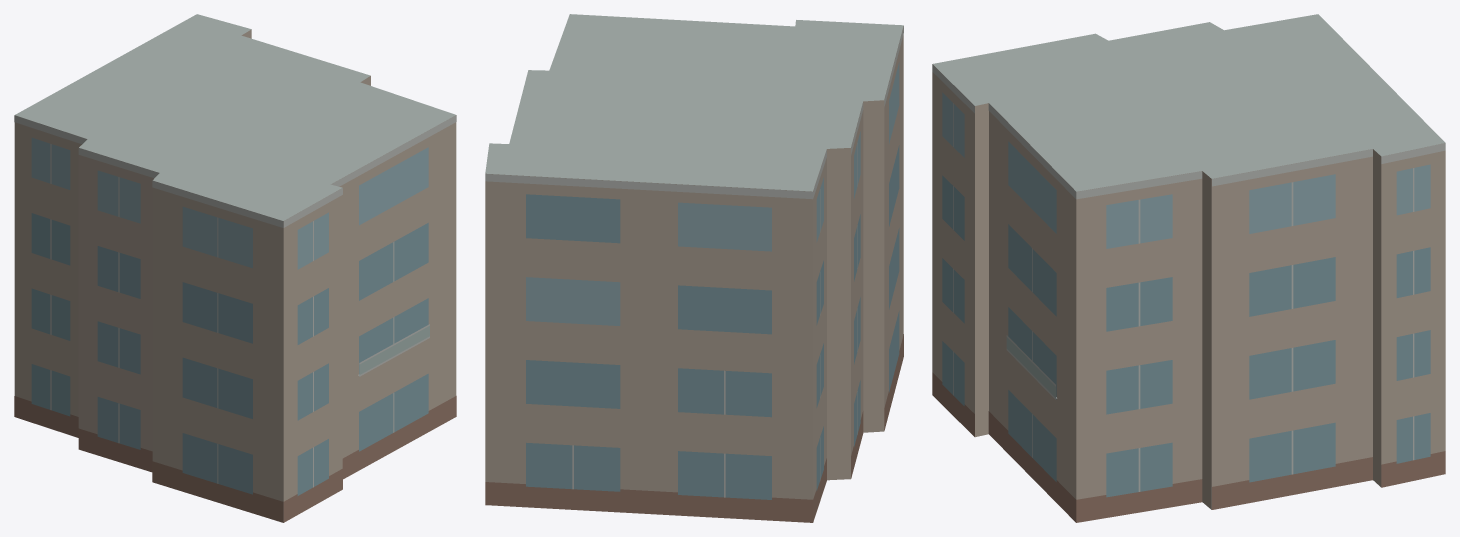
File: survey-upis-32771836.glb
3 renders of one model, left to right at view 1: azimuth 30°, elevation 25°; view 2: azimuth 150°, elevation 25°; view 3: azimuth 270°, elevation 25°, orthographic. The views are drawn at different scales.
Visible parts, largest first — view 1: survey-upis-32771836.tmp; view 2: survey-upis-32771836.tmp; view 3: survey-upis-32771836.tmp.
Boxes of the visible parts, x1,y1,x2,y2 form: survey-upis-32771836.tmp: (14,14,456,522); survey-upis-32771836.tmp: (485,14,903,522); survey-upis-32771836.tmp: (932,14,1445,522).
Bounding box in the file's own units: 12.09 × 10.5 × 14.76.
